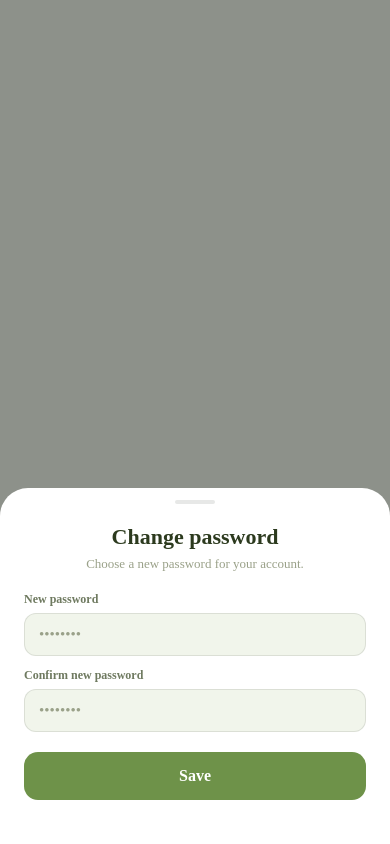
Scenario: ChangePasswordSheet › submits a valid password and shows confirmation
The width and height of the screenshot is (390, 844).
Type "abcdef" into the password field with test id "new-password-input". click: (195, 634)
box: [24,613,366,656]
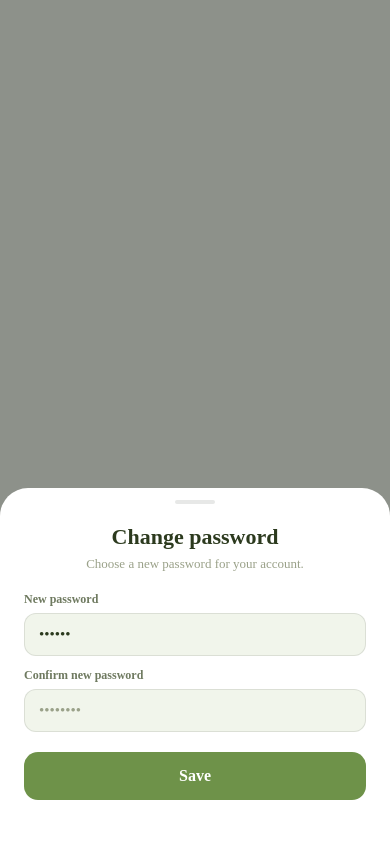
Type "abcdef" into the password field with test id "confirm-password-input". click: (195, 710)
box: [24,689,366,732]
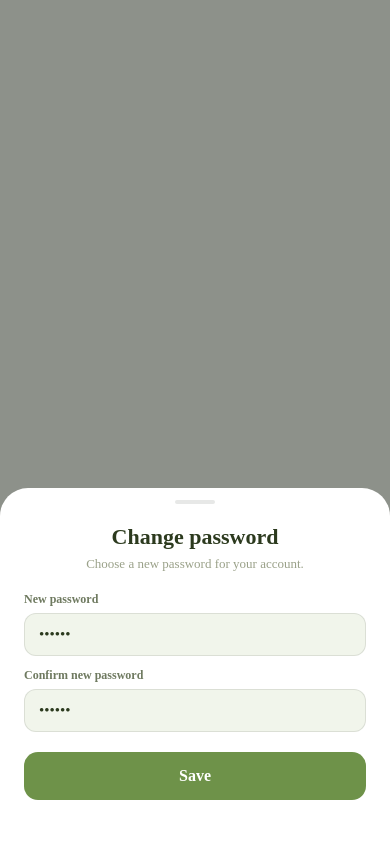
Click the element with test id "change-password-submit". click: (195, 776)
box: [24,752,366,800]
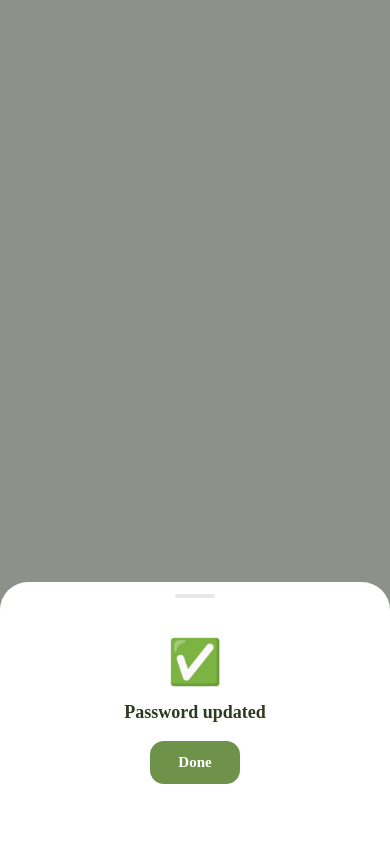
Expected: the text "Password updated" is shown, [124,702,266,723]
